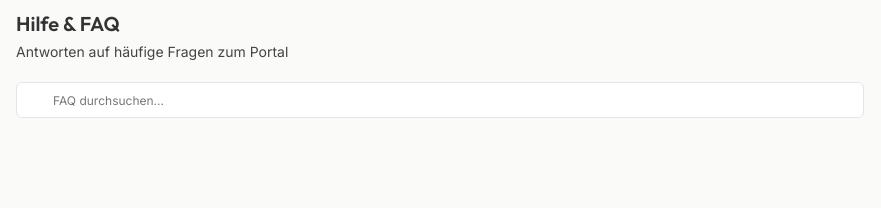
Test: HilfePage › search › shows empty state when no results match
The width and height of the screenshot is (881, 208).
Type "xyznonexistent" into the field with placeholder "FAQ durchsuchen..." at (440, 100), box [16,82,864,118]
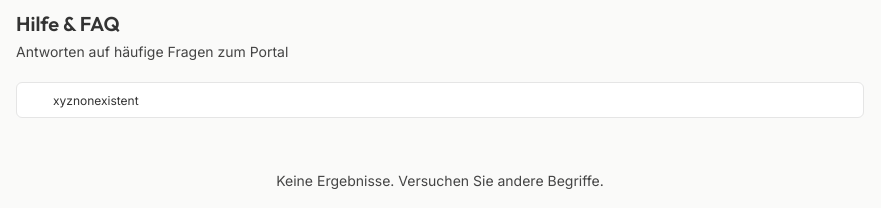
Now the text "Keine Ergebnisse. Versuchen Sie andere Begriffe." is shown, box [276,170,604,191]
